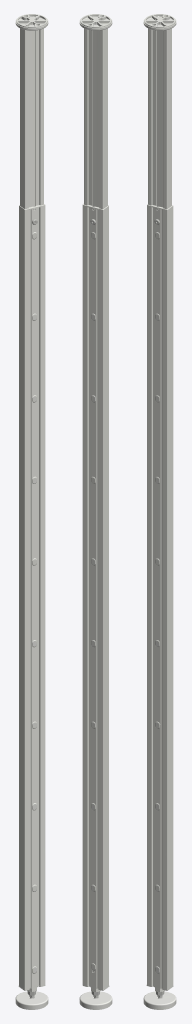
The model's file is 20 - ELVARLI - 立柱, 白色, 222-350 公分 IKEA 線上購物.glb.
The picture shows the model from 3 angles, left to right: view 1: azimuth 30°, elevation 25°; view 2: azimuth 150°, elevation 25°; view 3: azimuth 330°, elevation 25°; orthographic projection.
Bounding box in the file's own units: 0.0819 × 2.71 × 0.0819.
Materials: 1 (1 with a texture image).
